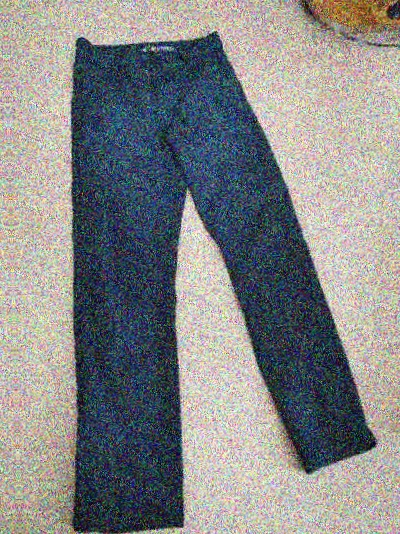Pants: (34, 9, 385, 529)
